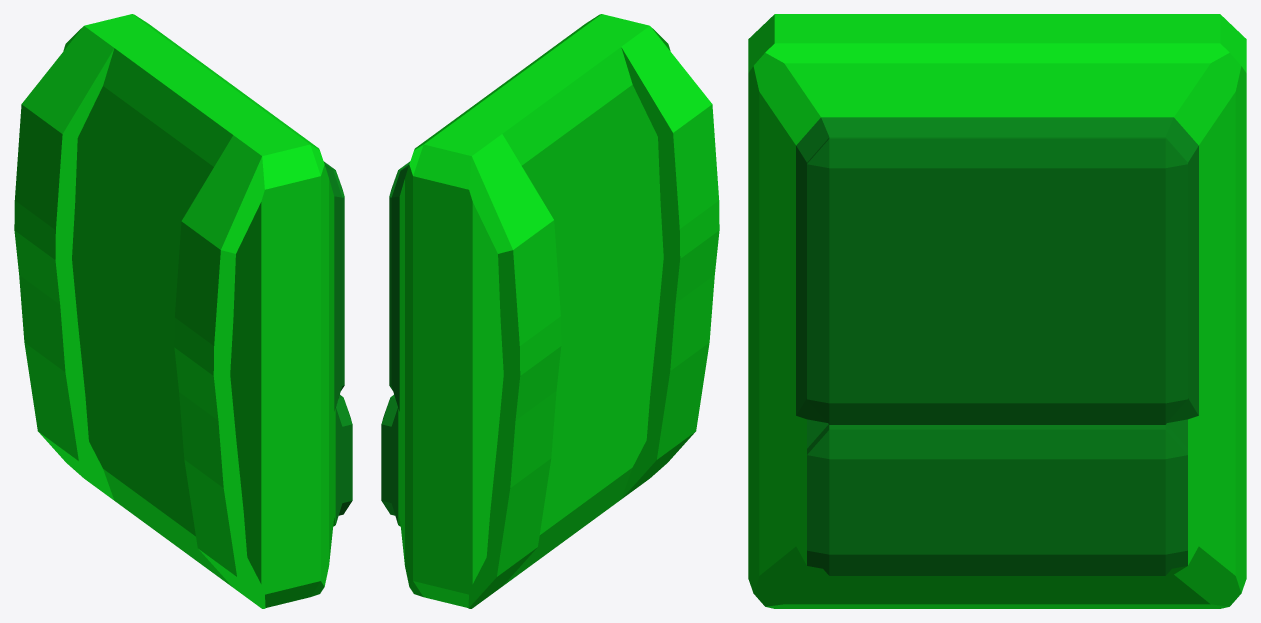
File: backpack.fbx
3 renders of one model, left to right at view 1: azimuth 30°, elevation 25°; view 2: azimuth 150°, elevation 25°; view 3: azimuth 270°, elevation 25°, orthographic. The views are drawn at different scales.
Parts seen in each view (by area): view 1: Cube; view 2: Cube; view 3: Cube.
Part boxes in pixels (box(x1,y1,x2,y2)): Cube: box(14, 14, 352, 608); Cube: box(381, 14, 719, 608); Cube: box(748, 14, 1246, 608).
Bounding box in the file's own units: 228 × 585 × 467.
